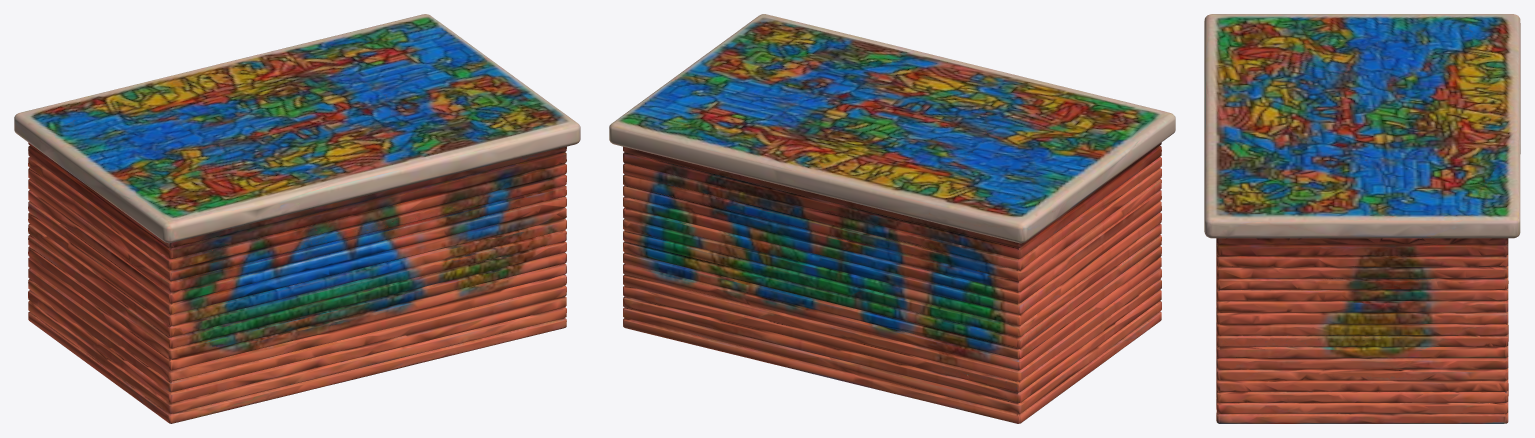
File: BrickWall.glb
The picture shows the model from 3 angles, left to right: view 1: azimuth 30°, elevation 25°; view 2: azimuth 150°, elevation 25°; view 3: azimuth 270°, elevation 25°; orthographic projection.
Parts seen in each view (by area): view 1: node_0; view 2: node_0; view 3: node_0.
Part boxes in pixels (x1,y1,x2,y2): node_0: (14, 14, 580, 423); node_0: (609, 14, 1175, 423); node_0: (1204, 14, 1520, 423).
Size of the model in its own units: 0.9527 by 0.45 by 0.6127.
Materials: 1 (1 with a texture image).
